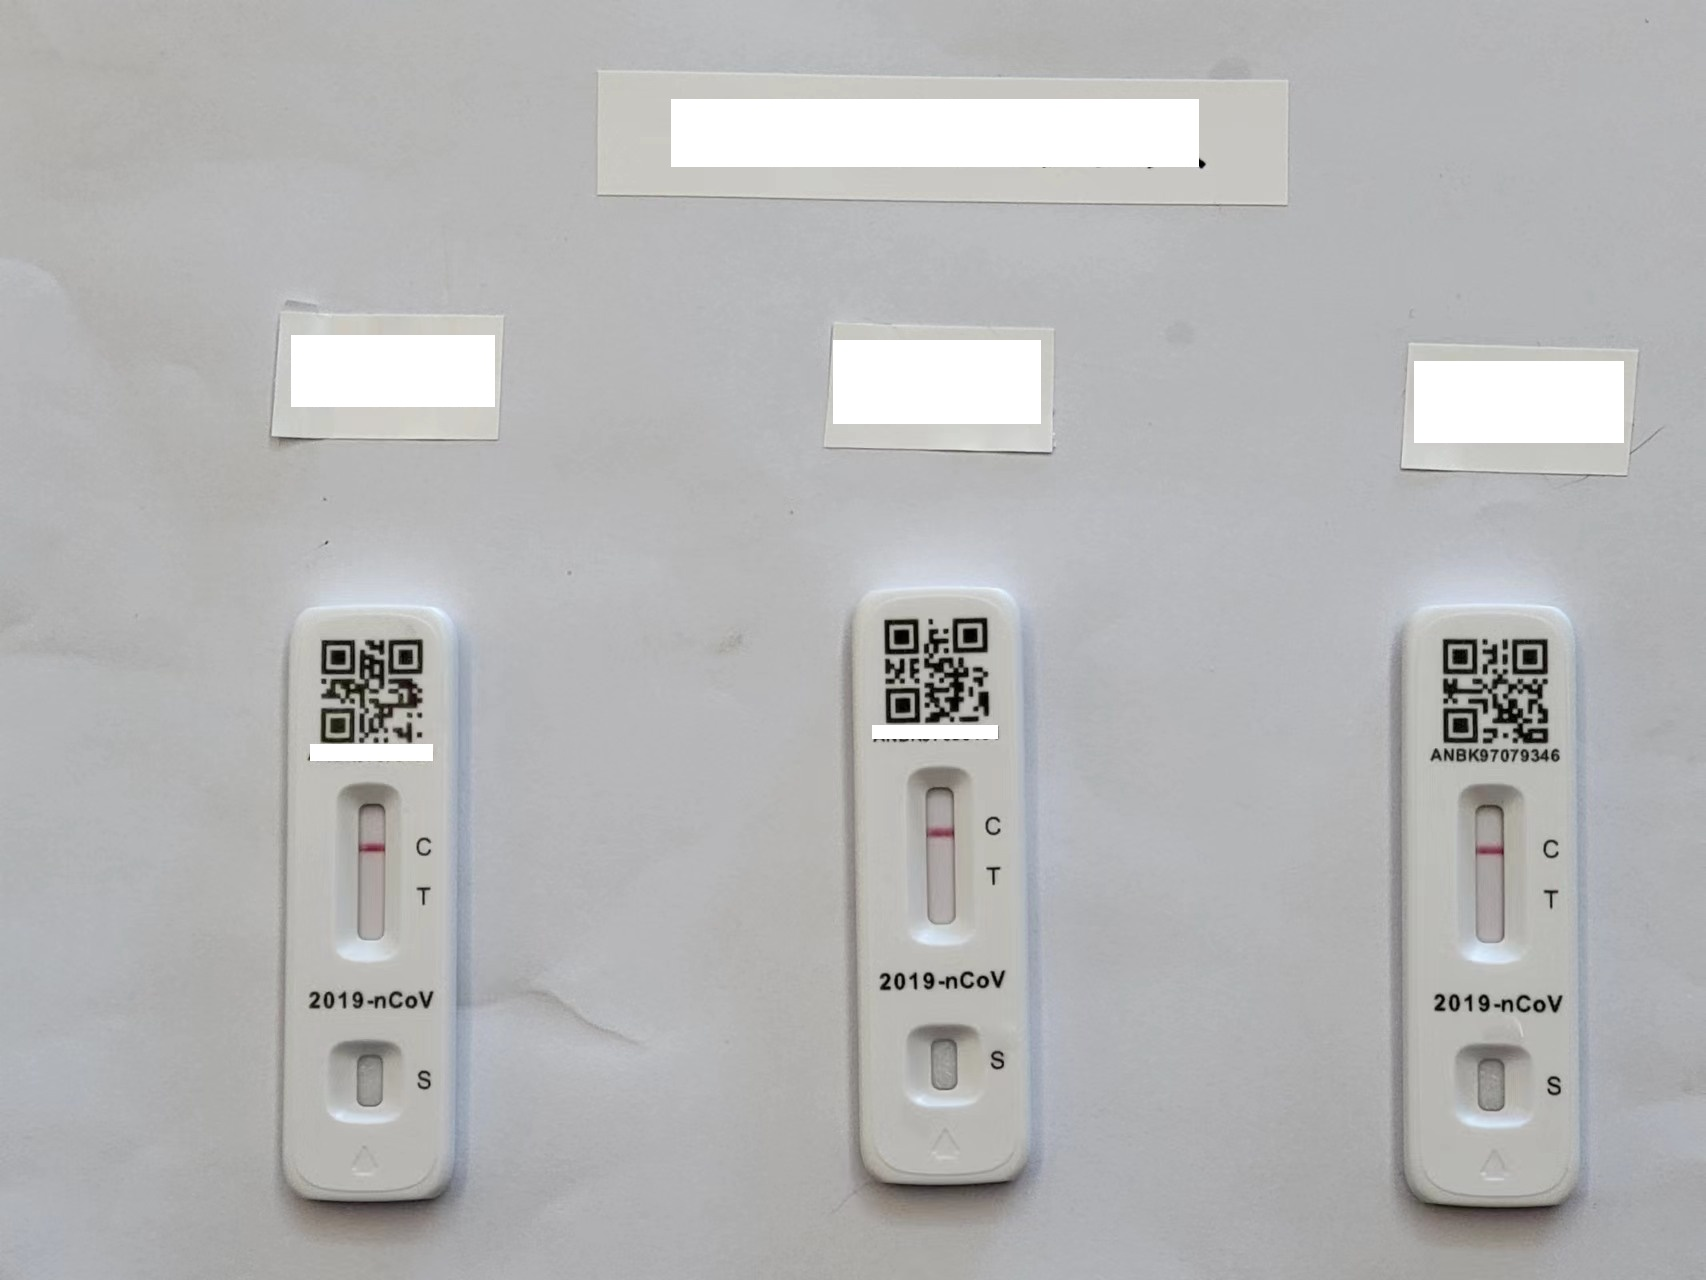negative: (1457, 783, 1526, 965), (333, 781, 403, 959), (902, 766, 973, 940)
